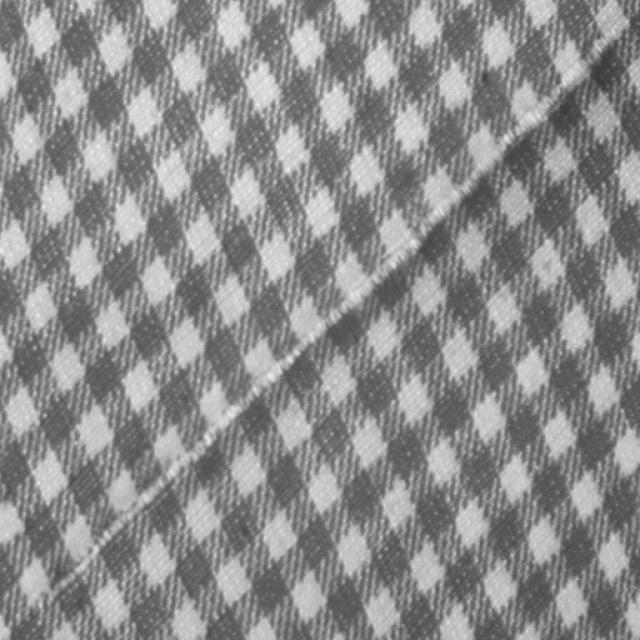Thread-Defect: (3, 5, 638, 639)
